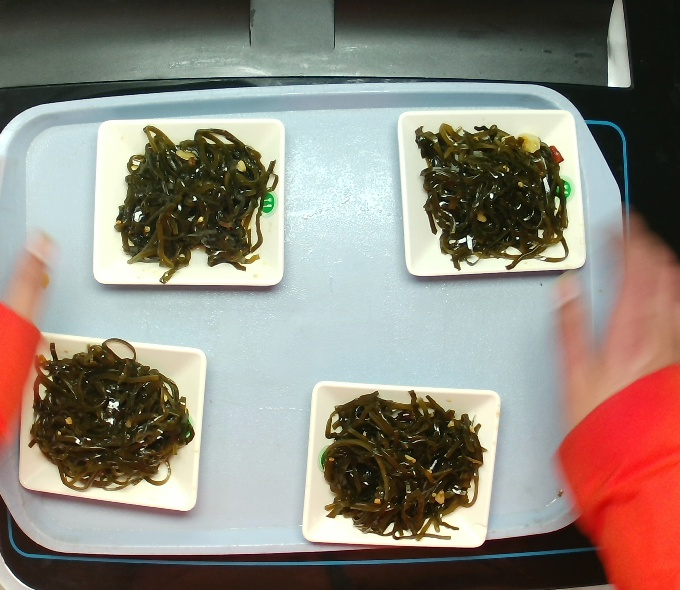wcq-LiangBanHaiDai: (406, 113, 574, 267), (319, 382, 482, 540), (26, 339, 195, 489), (110, 124, 274, 278)
